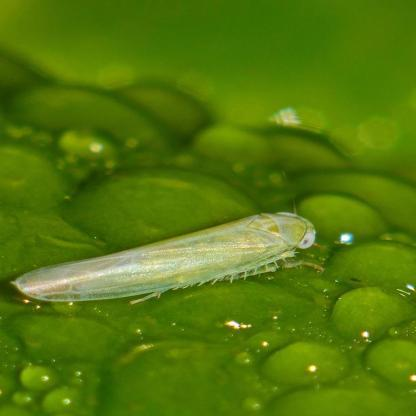green-leafhopper: (8, 211, 325, 308)
